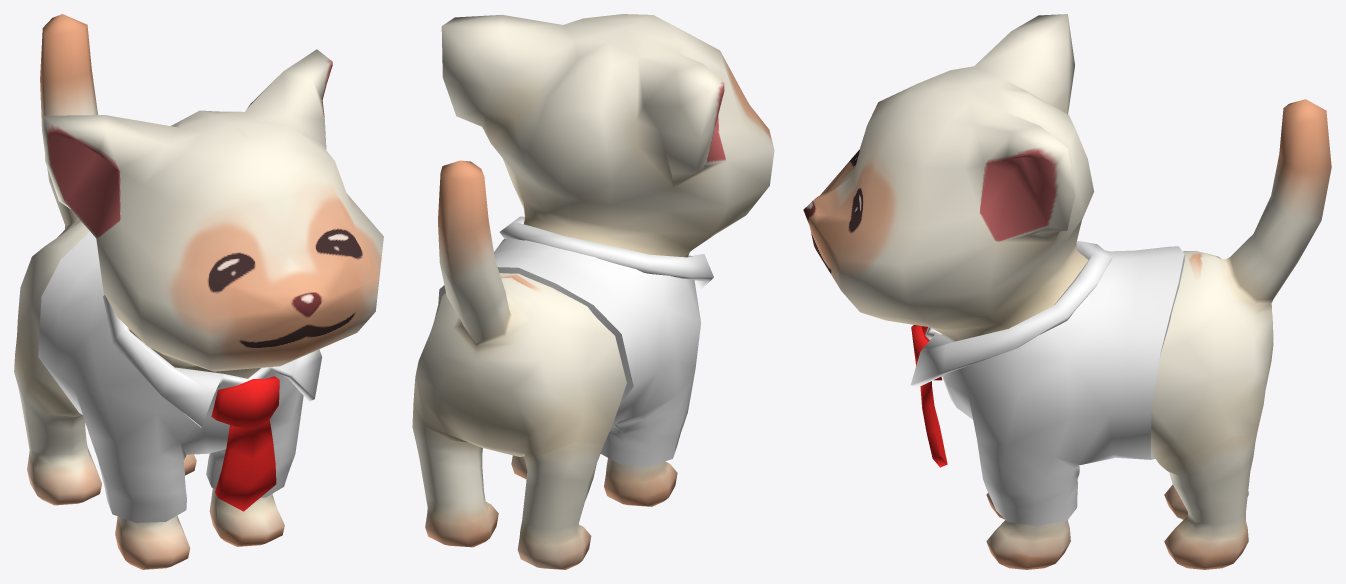
File: Dean Cat02.fbx
The picture shows the model from 3 angles, left to right: view 1: azimuth 30°, elevation 25°; view 2: azimuth 150°, elevation 25°; view 3: azimuth 270°, elevation 25°; orthographic projection. The views are drawn at different scales.
Parts seen in each view (by area): view 1: Cat_Base001, Dean_Cat_Shirt; view 2: Cat_Base001, Dean_Cat_Shirt; view 3: Cat_Base001, Dean_Cat_Shirt.
Boxes of the visible parts, left/top/right/bottom form: Cat_Base001: left=14, top=14, right=383, bottom=569; Dean_Cat_Shirt: left=38, top=231, right=321, bottom=522; Cat_Base001: left=412, top=14, right=774, bottom=569; Dean_Cat_Shirt: left=438, top=216, right=713, bottom=467; Cat_Base001: left=803, top=14, right=1331, bottom=569; Dean_Cat_Shirt: left=910, top=240, right=1184, bottom=525.
Size of the model in its own units: 1.75 by 2.83 by 2.68.
Materials: 3 (1 with a texture image).
